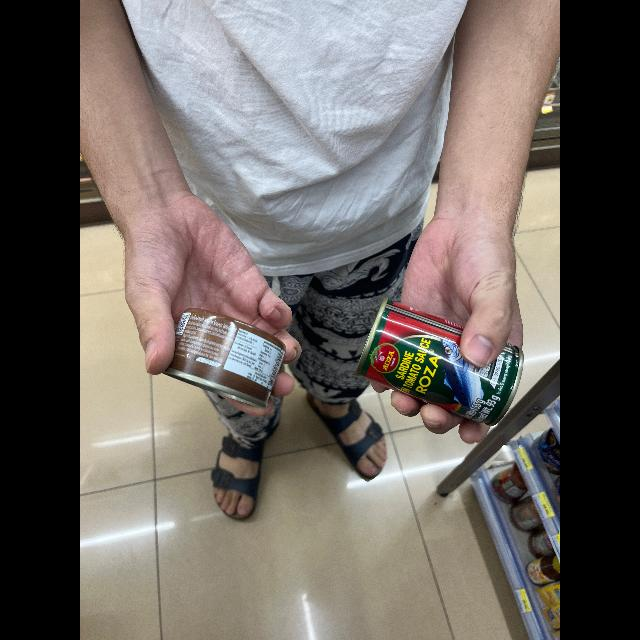can: (356, 294, 540, 422), (159, 300, 289, 412)
